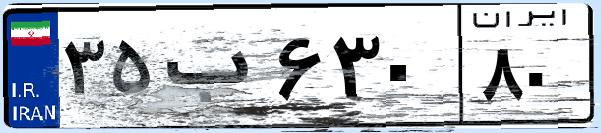0: (385, 28, 445, 110), (525, 38, 570, 115)
3: (330, 28, 385, 110), (57, 26, 110, 100)
5: (110, 28, 158, 98)
6: (270, 28, 330, 110)
8: (475, 38, 525, 113)
ب: (158, 20, 270, 120)
